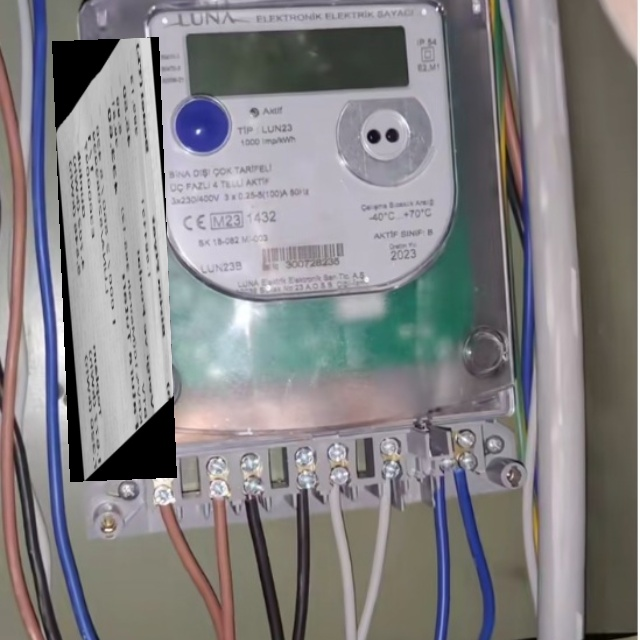electricity-bill: (52, 36, 176, 481)
